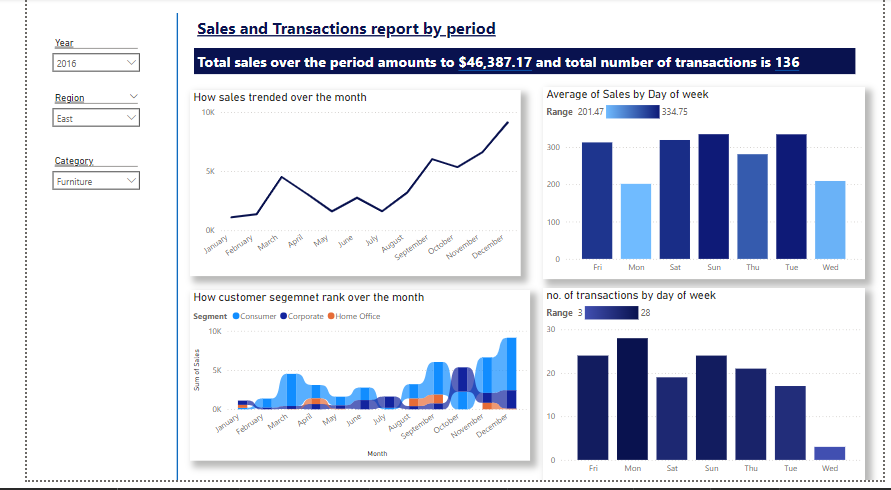

Layout of this report page (visuals, bound fields, positions):
{"tool":"powerbi","page":{"name":"Periodic report","canvas":[1280,720],"ordinal":0},"visuals":[{"type":"shape","box":[198,22.6,51.8,697.8],"z":0},{"type":"textbox","box":[249.9,22.6,521,61.1],"z":1000},{"type":"textbox","box":[249.9,74.4,987.6,38.5],"z":2000},{"type":"lineChart","title":"How sales trended over the month","fields":{"Category":["Orders.Order Date.Variation.Date Hierarchy.Month"],"Y":["Sum(Orders.Sales)"]},"box":[243.2,136.9,494.5,277.8],"z":3000},{"type":"ribbonChart","title":"How customer segemnet rank over the month","fields":{"Category":["Orders.Order Date.Variation.Date Hierarchy.Month"],"Y":["Sum(Orders.Sales)"],"Series":["Orders.Segment"]},"box":[243.2,436,507.7,255.2],"z":4000},{"type":"columnChart","title":"Average of Sales by Day of week","fields":{"Y":["Avg(Orders.Sales)"],"Category":["Orders.Day Name"]},"box":[770.9,132.9,481.2,287.1],"z":5000},{"type":"columnChart","title":"no. of transactions by day of week","fields":{"Y":["Count(Orders.Order ID)"],"Category":["Orders.Day Name"]},"box":[770.9,433.3,481.2,287.1],"z":6000},{"type":"slicer","fields":{"Values":["Orders.Order Date.Variation.Date Hierarchy.Year"]},"box":[27.9,53.2,150.2,59.8],"z":7000},{"type":"slicer","fields":{"Values":["Orders.Region"]},"box":[27.9,136.2,150.2,70.4],"z":8000},{"type":"slicer","fields":{"Values":["Orders.Category"]},"box":[27.9,229.9,150.2,94.4],"z":9000}]}

Visuals, with their boxes in screenshot pixels (x1, y1, x2, y2), scaled from the page's 1280x720 canvas onto the 891x490 screenshot:
shape: region(138, 15, 174, 489)
textbox: region(174, 15, 537, 57)
textbox: region(174, 51, 861, 77)
"How sales trended over the month" lineChart: region(169, 93, 514, 282)
"How customer segemnet rank over the month" ribbonChart: region(169, 297, 523, 470)
"Average of Sales by Day of week" columnChart: region(537, 90, 872, 286)
"no. of transactions by day of week" columnChart: region(537, 295, 872, 489)
slicer - Orders.Order Date.Variation.Date Hierarchy.Year: region(19, 36, 124, 77)
slicer - Orders.Region: region(19, 93, 124, 141)
slicer - Orders.Category: region(19, 156, 124, 221)
